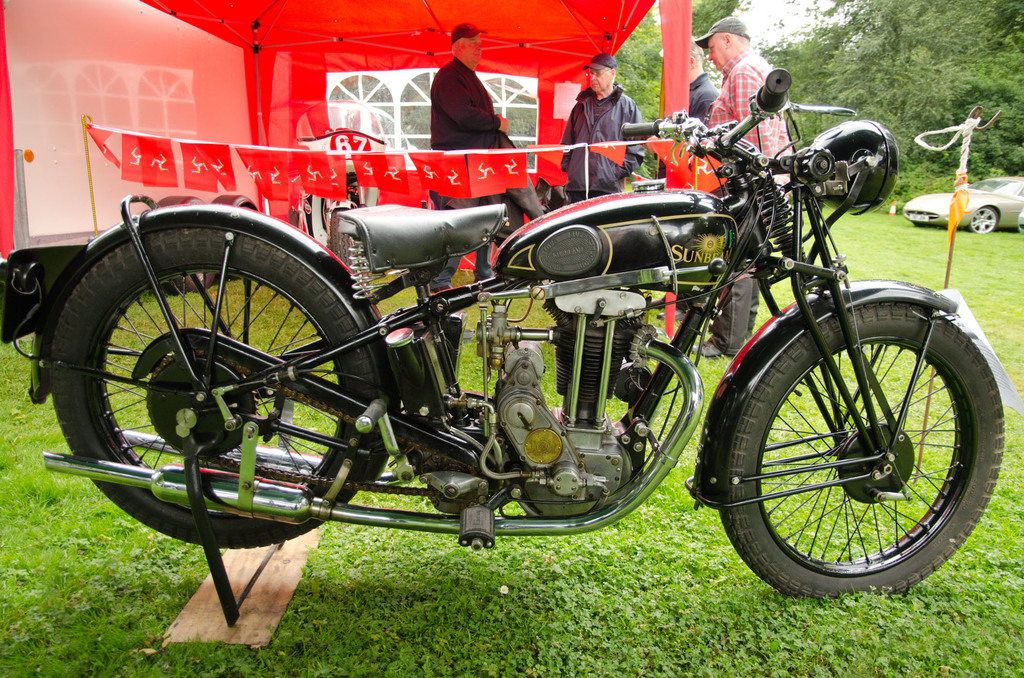cars: (901, 178, 1023, 234), (1017, 210, 1023, 237)
